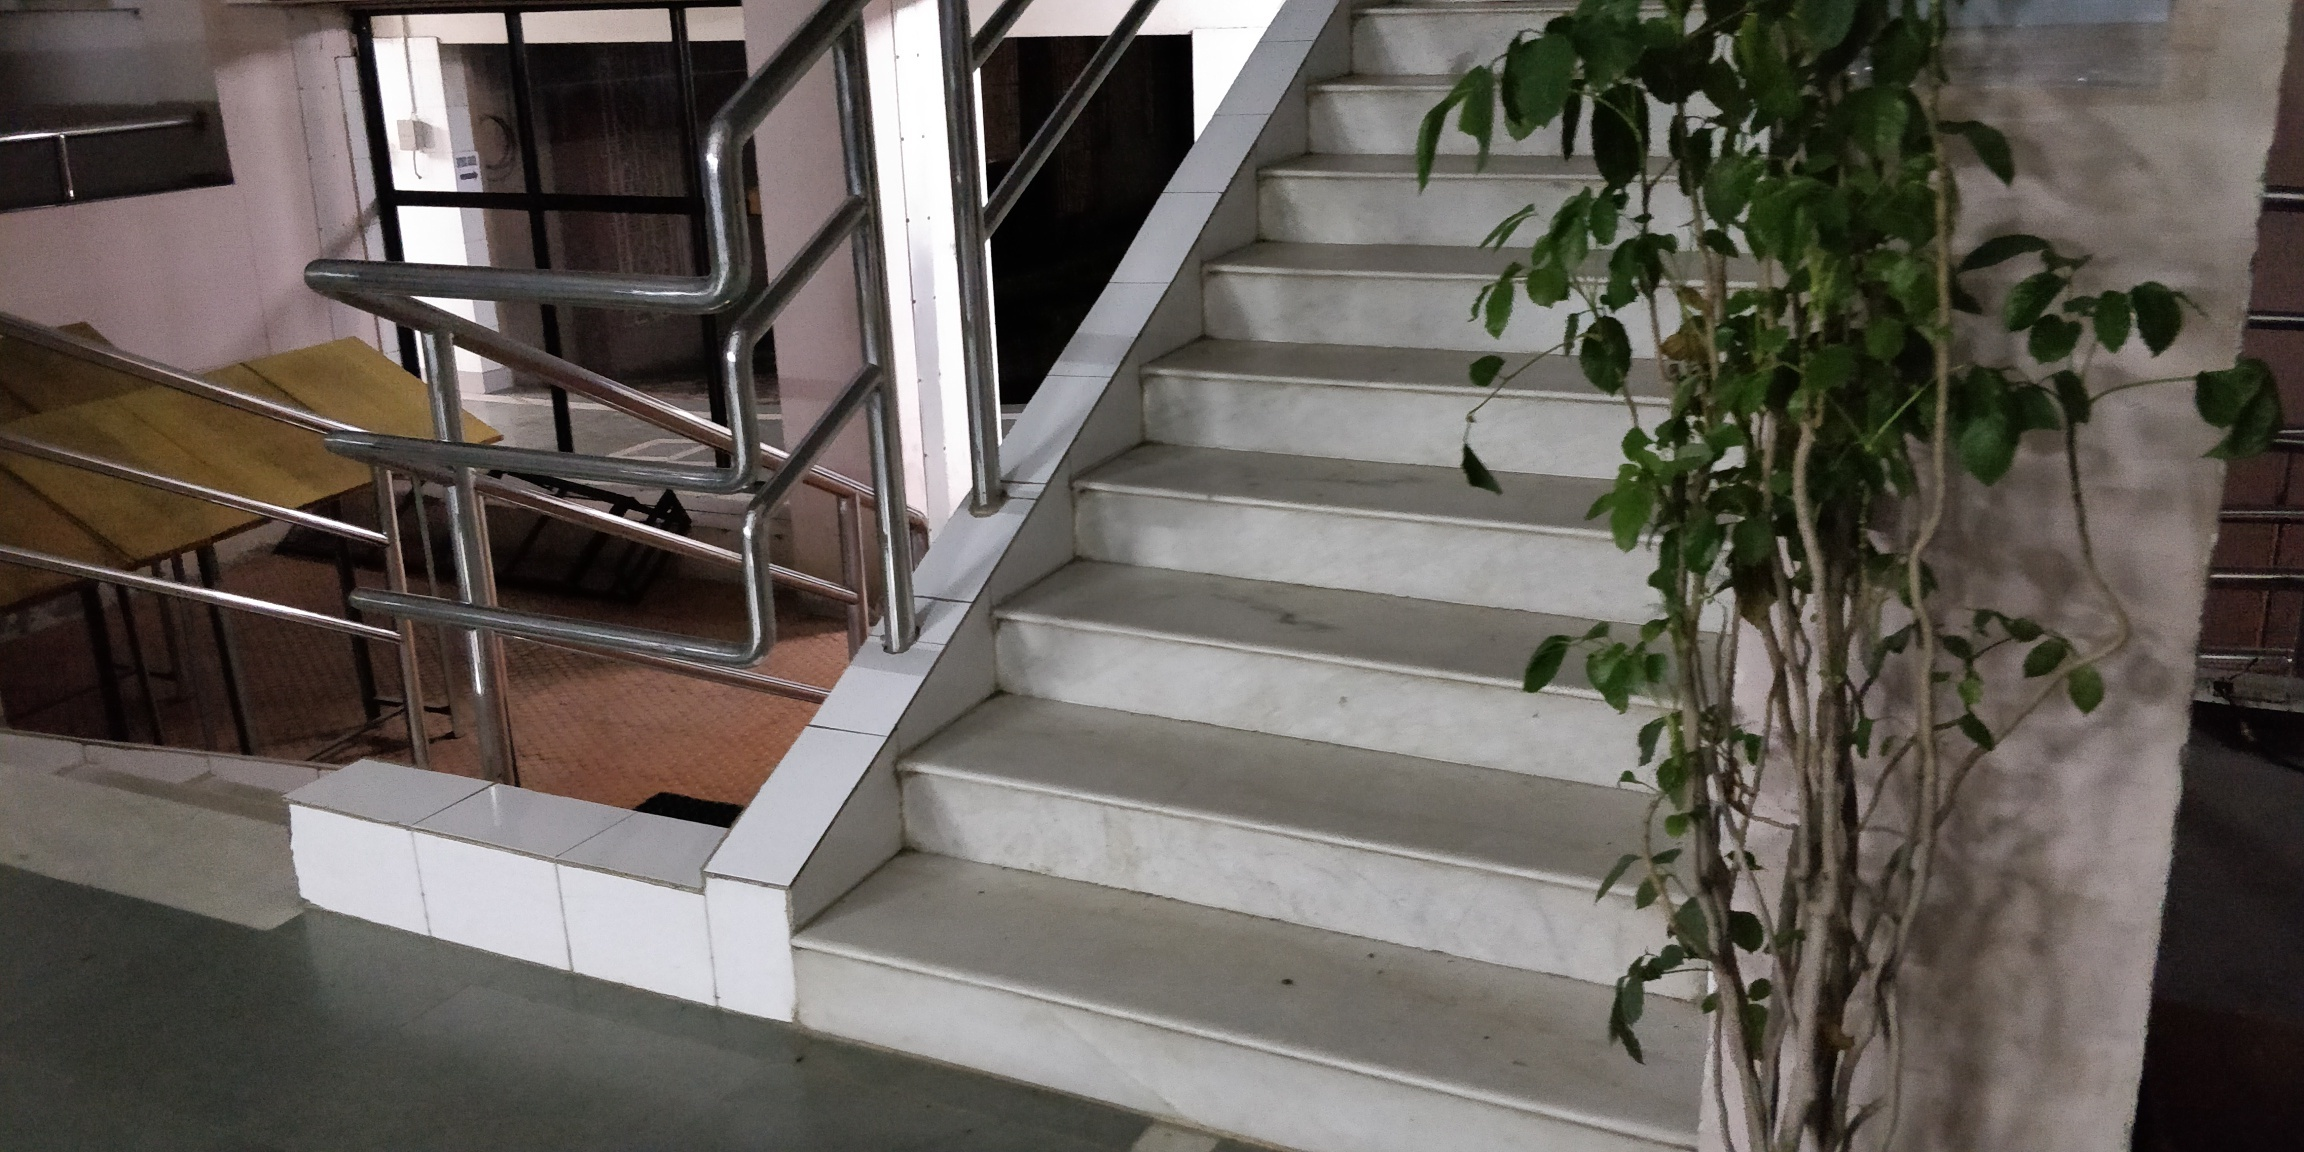stairs_up: (713, 9, 1824, 1131)
